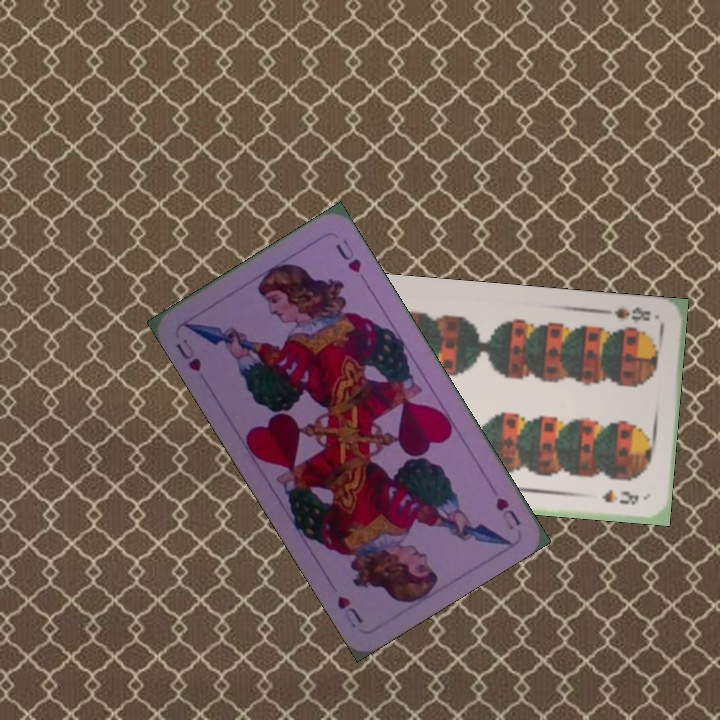HU: (171, 334, 204, 374), (491, 493, 523, 533)
S8: (602, 303, 653, 325)
